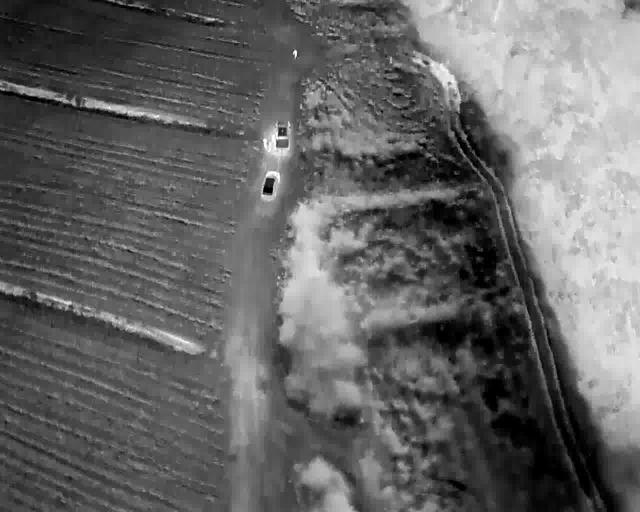car: (274, 118, 292, 148), (261, 169, 278, 199)
person: (261, 137, 268, 149), (270, 133, 276, 147), (292, 47, 298, 60), (266, 140, 272, 152)
